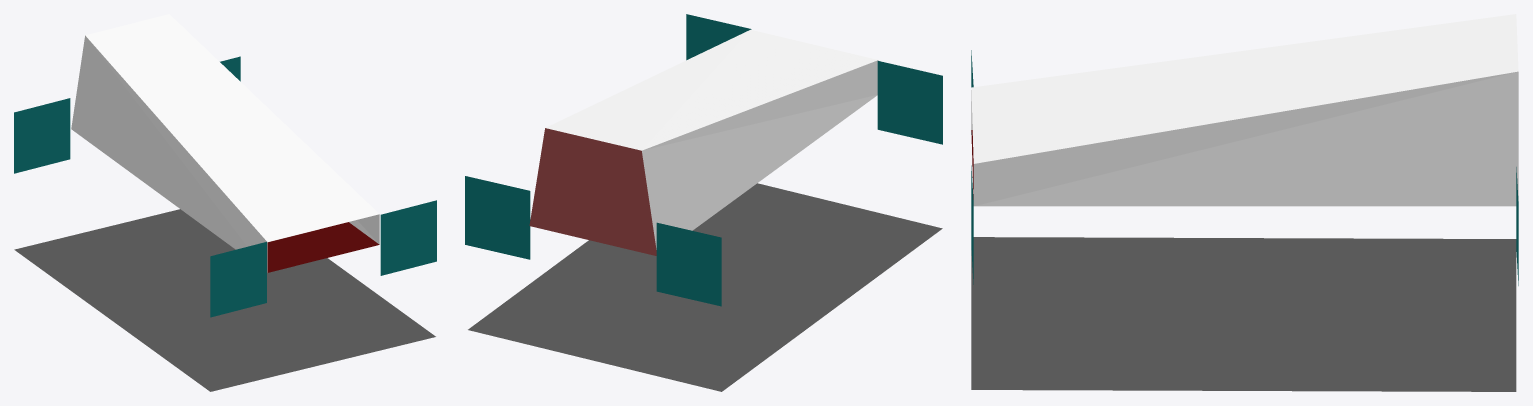
File: opponent-car.glb
The picture shows the model from 3 angles, left to right: view 1: azimuth 30°, elevation 25°; view 2: azimuth 150°, elevation 25°; view 3: azimuth 270°, elevation 25°; orthographic projection. The views are drawn at different scales.
Visible parts, largest first — view 1: opponent-car; view 2: opponent-car; view 3: opponent-car.
Boxes of the visible parts, bbox=[...] form: opponent-car: bbox=[14, 14, 436, 391]; opponent-car: bbox=[465, 14, 942, 391]; opponent-car: bbox=[971, 14, 1518, 391].
Size of the model in its own units: 0.0796 by 0.0659 by 0.1196.
